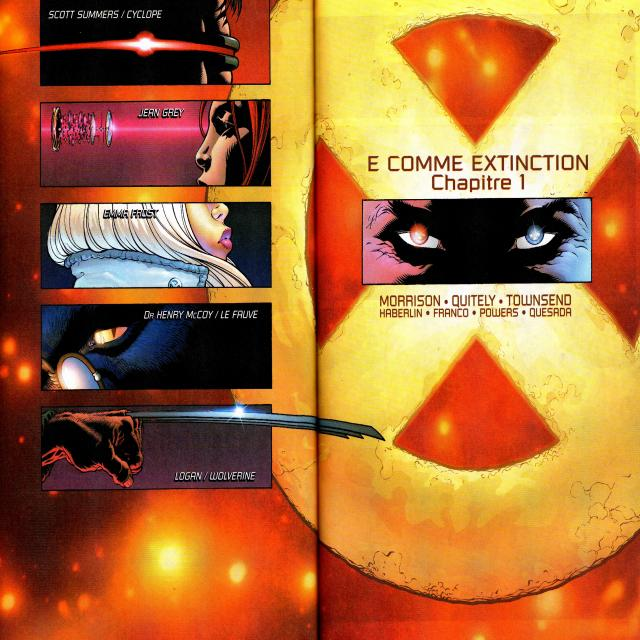comic_panel: (0, 0, 640, 640), (40, 404, 386, 492), (0, 0, 271, 87), (39, 99, 271, 189), (40, 301, 272, 391), (40, 202, 271, 290)
